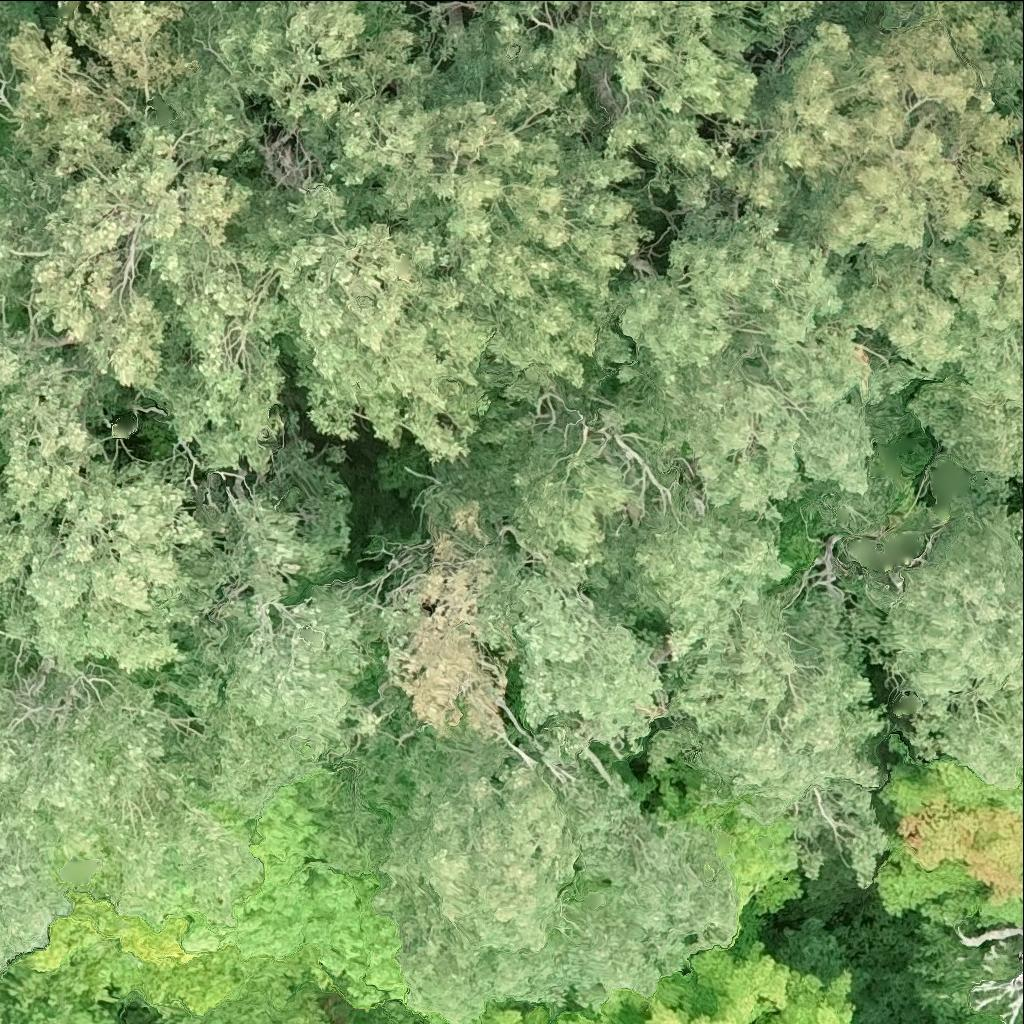crown: (360, 210, 941, 1023), (0, 0, 375, 797), (588, 471, 1023, 878), (328, 0, 653, 407), (145, 139, 532, 471), (693, 0, 1023, 374), (0, 638, 266, 967), (482, 809, 854, 1023), (503, 0, 871, 207), (0, 853, 334, 1023), (180, 755, 401, 1007), (164, 0, 455, 160), (912, 154, 1023, 481), (880, 760, 1023, 926), (910, 901, 1016, 1023), (155, 988, 332, 1023), (0, 116, 19, 180), (1014, 1005, 1023, 1023), (31, 0, 44, 11), (426, 1017, 449, 1023)
